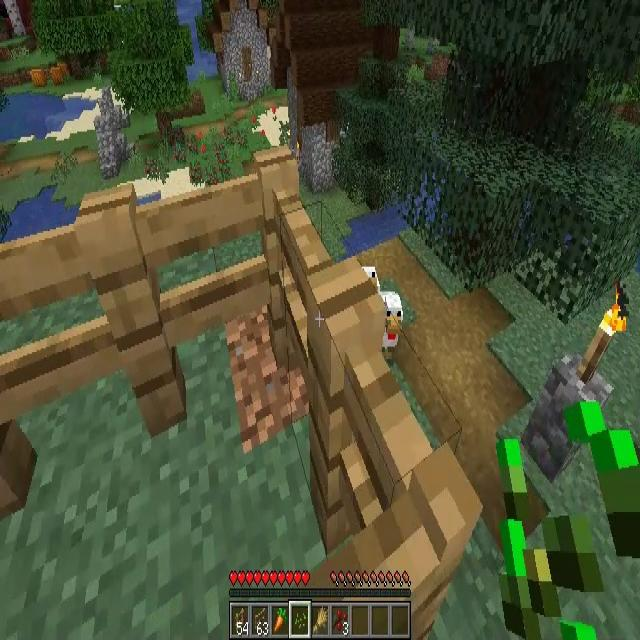duck: (376, 290, 404, 360)
